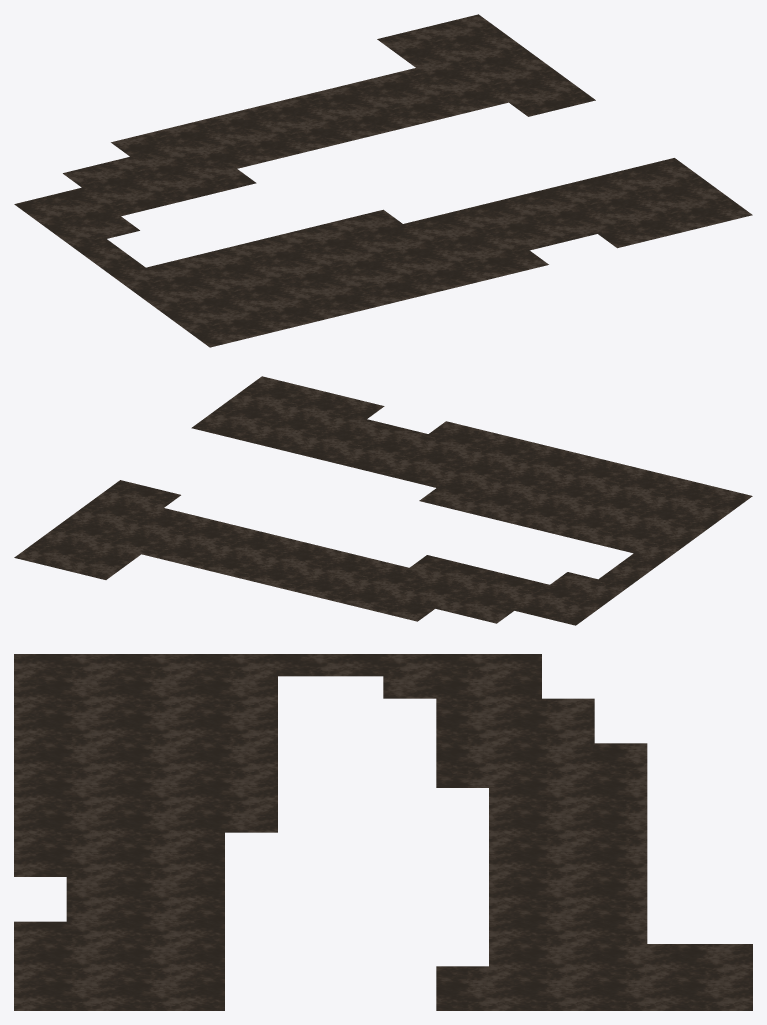
Rendered from floor_2_-9.glb.
The picture shows the model from 3 angles, top to bottom: view 1: azimuth 30°, elevation 25°; view 2: azimuth 150°, elevation 25°; view 3: azimuth 270°, elevation 25°; orthographic projection. The views are drawn at different scales.
Parts seen in each view (by area): view 1: floor_2_-9; view 2: floor_2_-9; view 3: floor_2_-9.
Boxes of the visible parts, x1,y1,x2,y2 form: floor_2_-9: (14, 14, 752, 347); floor_2_-9: (14, 376, 752, 625); floor_2_-9: (14, 654, 752, 1010).
Size of the model in its own units: 64 by 0 by 56.
1 material, 1 textured.
